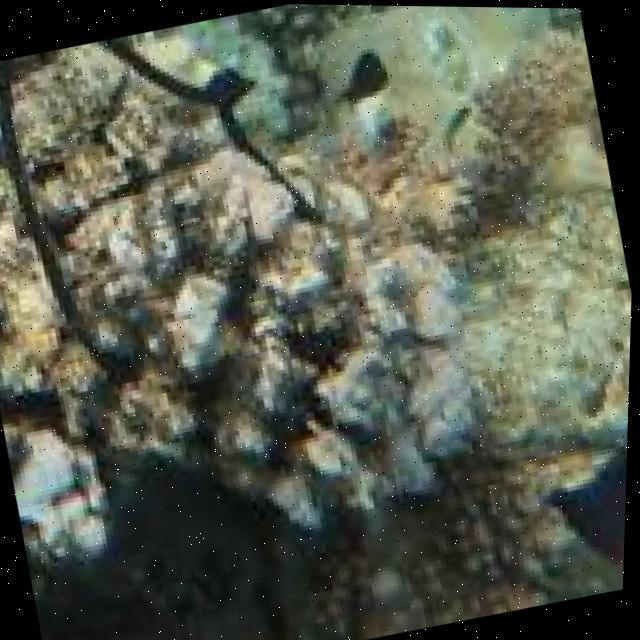Bleached Coral: (13, 411, 107, 561), (177, 263, 237, 383)
